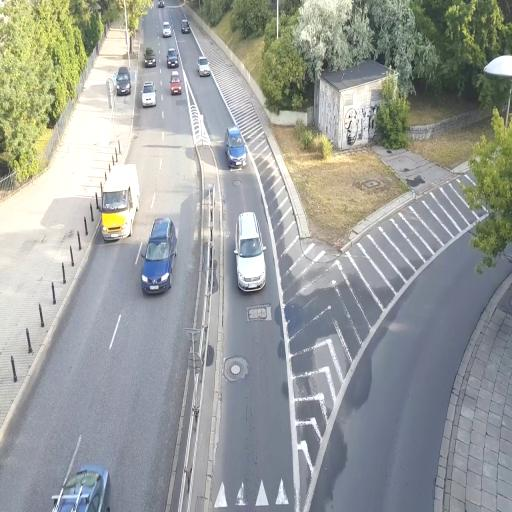vehicle: (97, 164, 139, 241), (139, 216, 177, 296), (52, 466, 111, 512), (235, 210, 267, 293), (225, 126, 247, 168), (114, 67, 131, 96), (142, 81, 156, 107), (196, 57, 211, 77), (170, 72, 182, 96), (143, 47, 156, 68), (167, 48, 178, 66)
